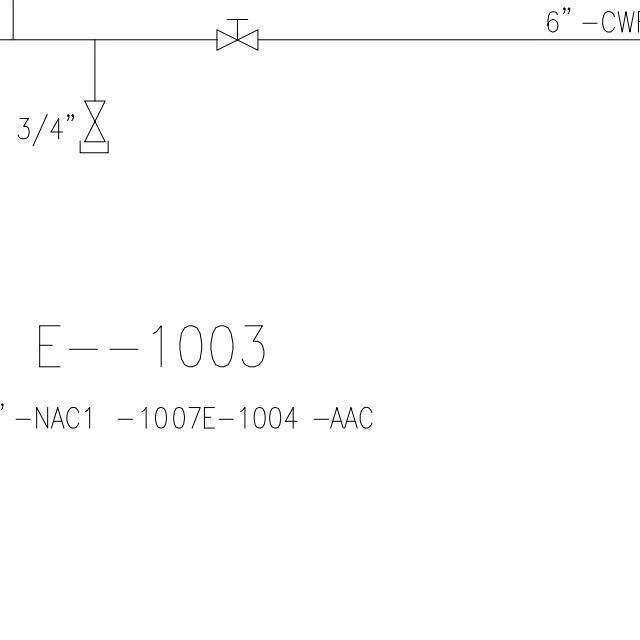EC: (73, 58, 115, 156)
GV: (82, 93, 106, 147)
HV: (213, 12, 263, 54)
